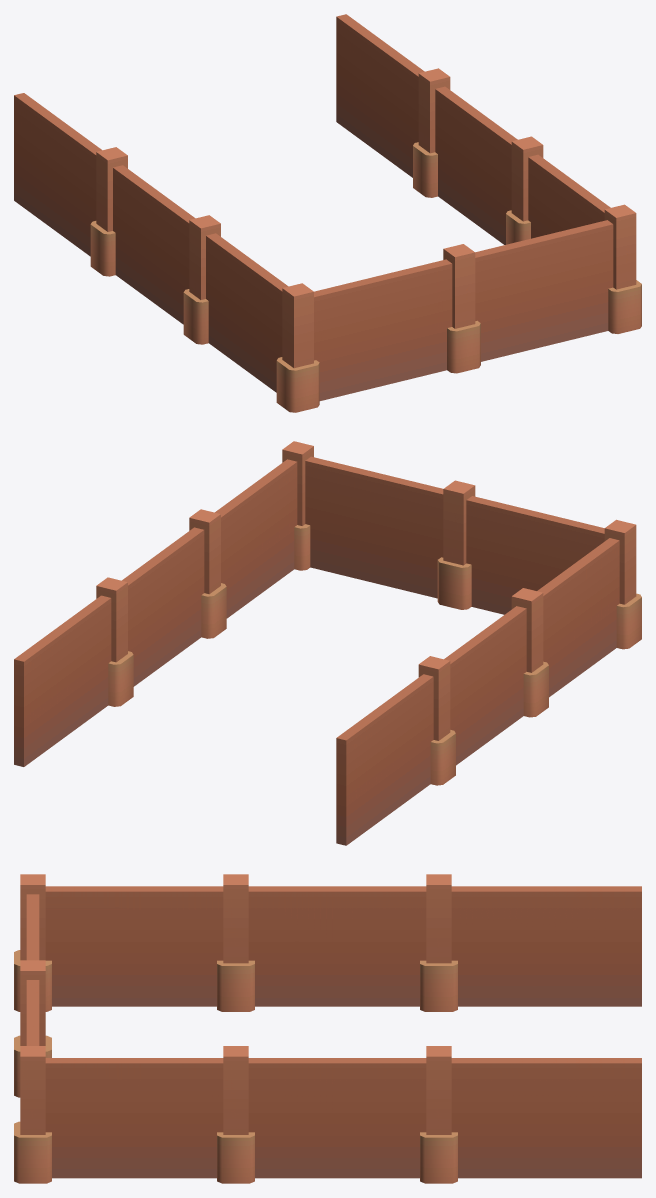
Rendered from sub_fence_3x2.glb.
3 views of the same model, one above another, from view 1: azimuth 30°, elevation 25°; view 2: azimuth 150°, elevation 25°; view 3: azimuth 270°, elevation 25° (orthographic). The views are drawn at different scales.
Visible parts, largest first — view 1: fence-3x2; view 2: fence-3x2; view 3: fence-3x2.
Part boxes in pixels (box(x1,y1,x2,y2)): fence-3x2: box(14, 14, 641, 412); fence-3x2: box(14, 441, 641, 845); fence-3x2: box(14, 874, 641, 1183).
Bounding box in the file's own units: 0.875 × 0.27 × 1.24.
1 material, 1 textured.
